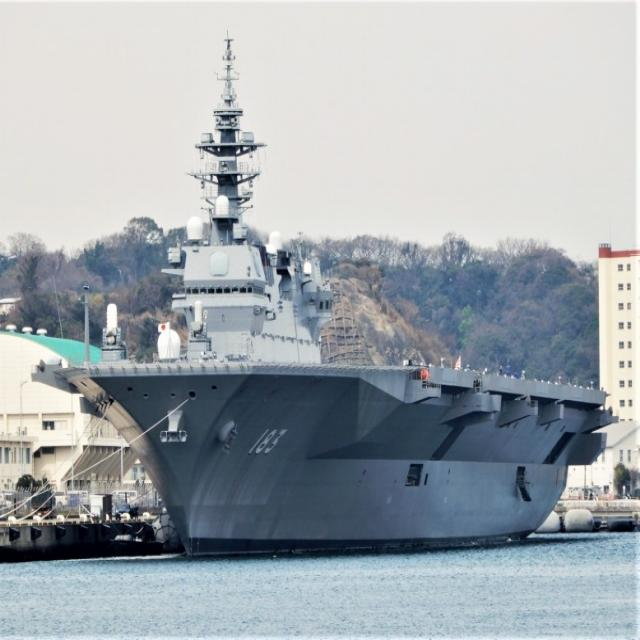Portanaves: (30, 29, 620, 566)
